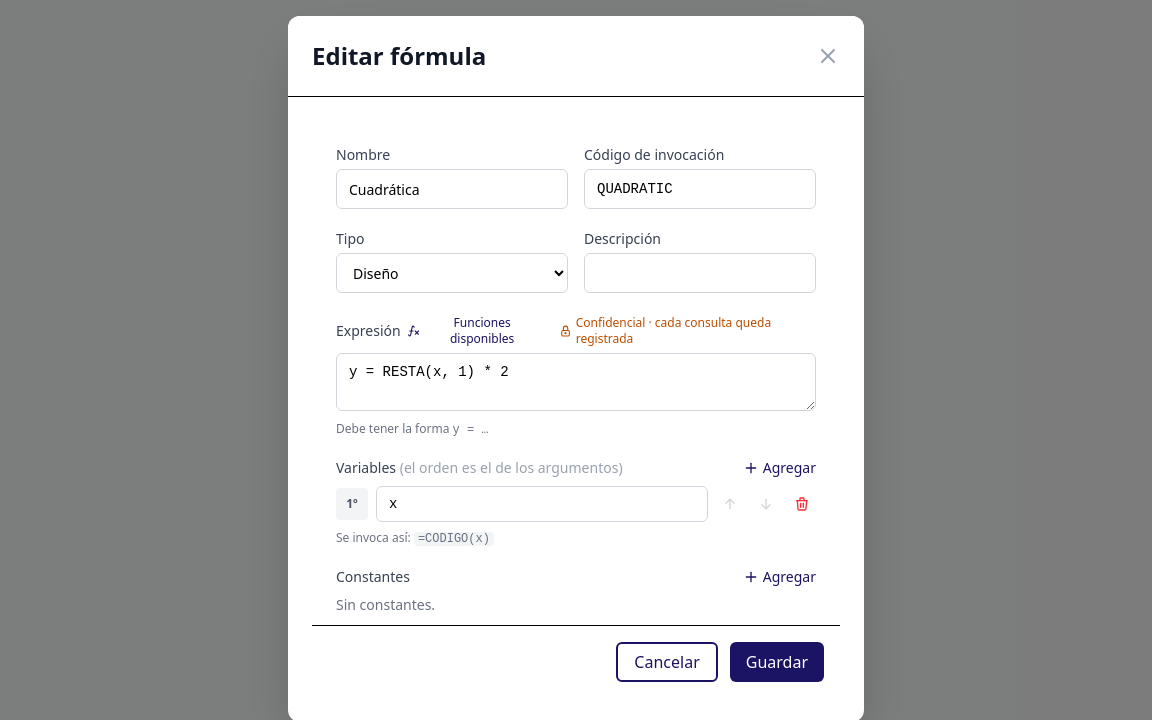
una fórmula que invoca a otra › invocar otra fórmula no cuenta como símbolo sin declarar
Expected: the text "Símbolos sin declarar" is not shown
Replace the text in the text box with placeholder "y = x^2 + CONST_1" with "y = RESTA(x, z)". click: (576, 382)
box: [336,353,816,411]
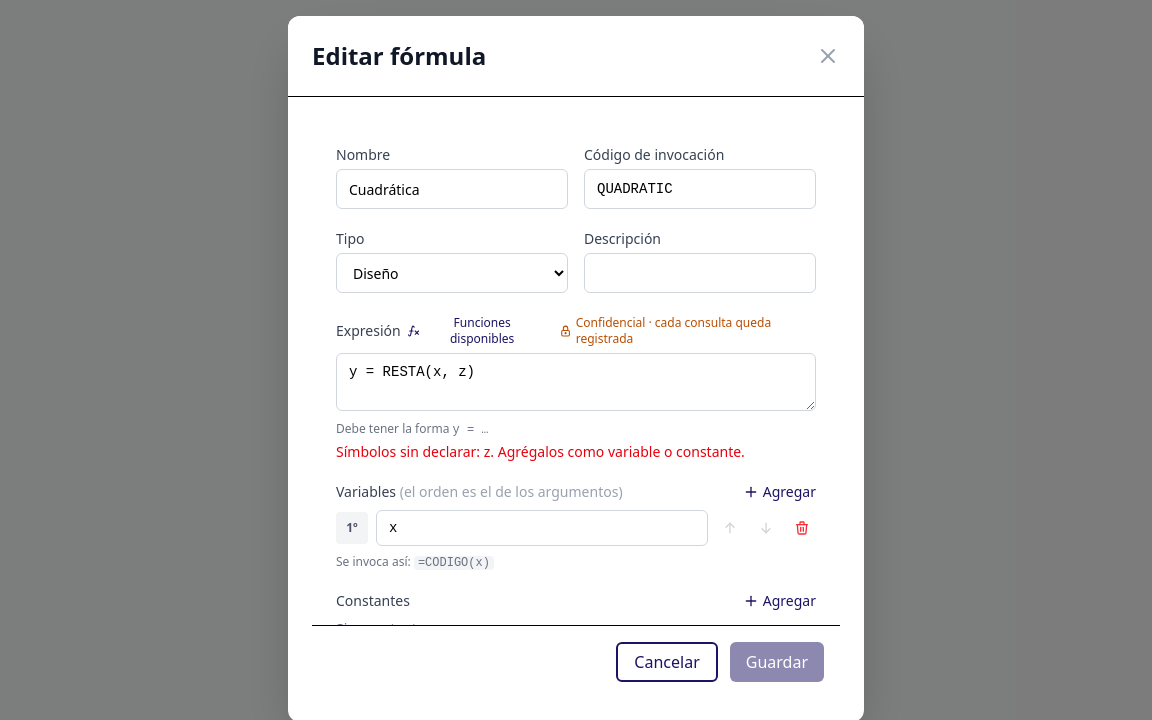
Expected: the text "Símbolos sin declarar: z." is shown, [336,442,816,462]
